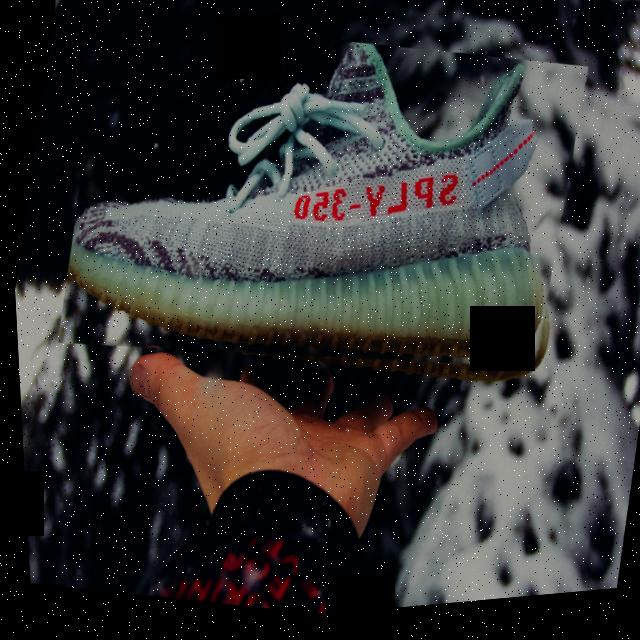shoe: (41, 0, 601, 438)
